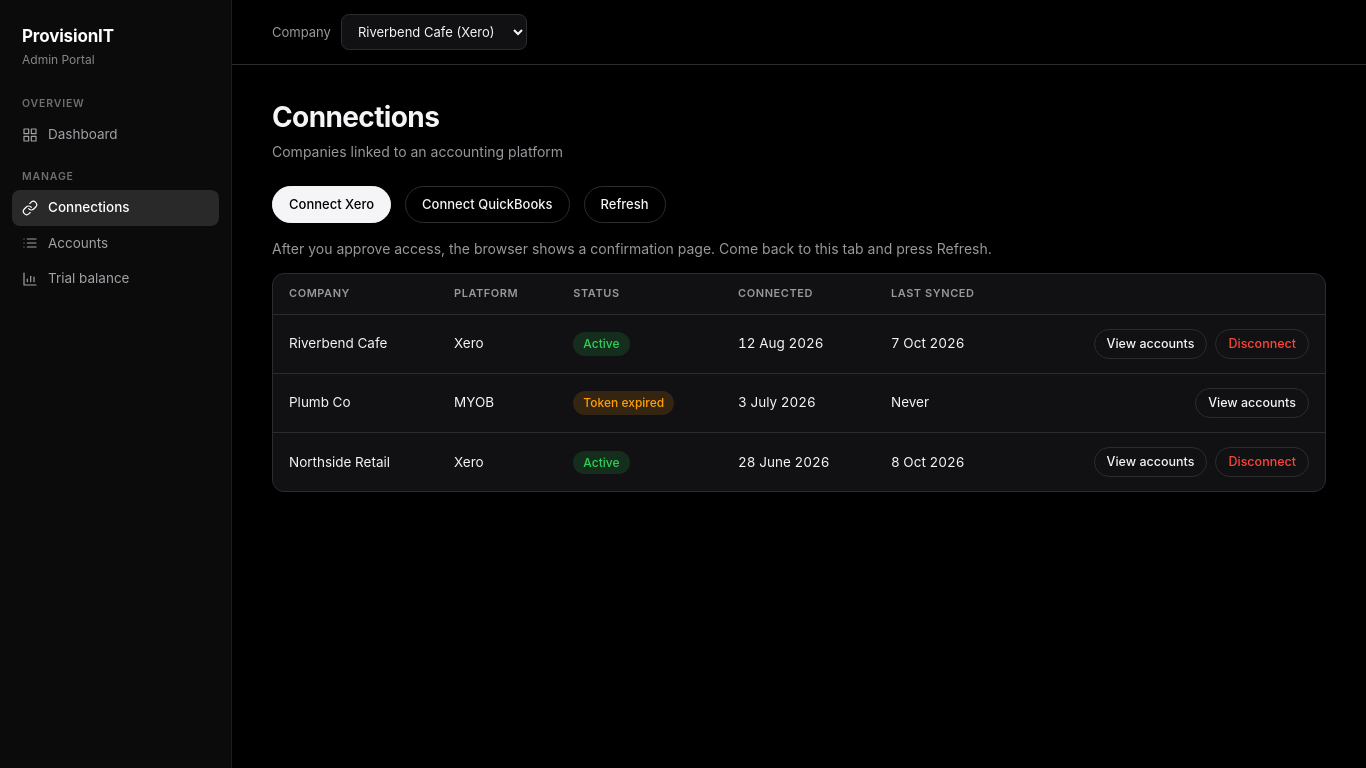
whole portal on sample data › lists companies, opens one, and moves through the pages
This screenshot has width=1366, height=768.
Expected: the text "Token expired" is shown, [573,392,674,415]
Click the button "View accounts" in the row of "Plumb Co": point(1252, 403) [1195,388,1309,418]
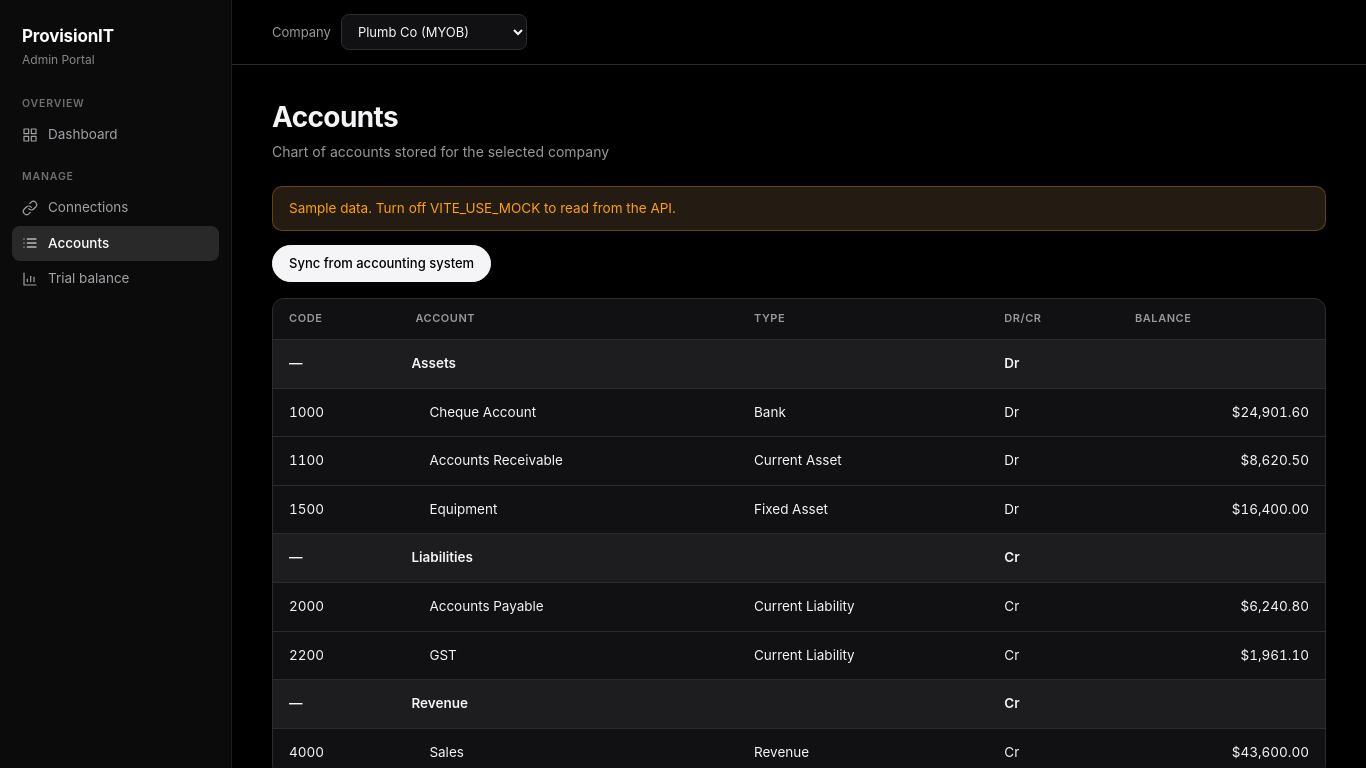
Now the heading "Accounts" is shown, box [272,100,398,134]
Now the text "Cheque Account" is shown, box [399,389,738,437]
Now the dropdown named "Active company" shows "Plumb Co (MYOB)", box [341,14,527,50]
Click the link "Trial balance": point(76, 279) [22,270,130,287]
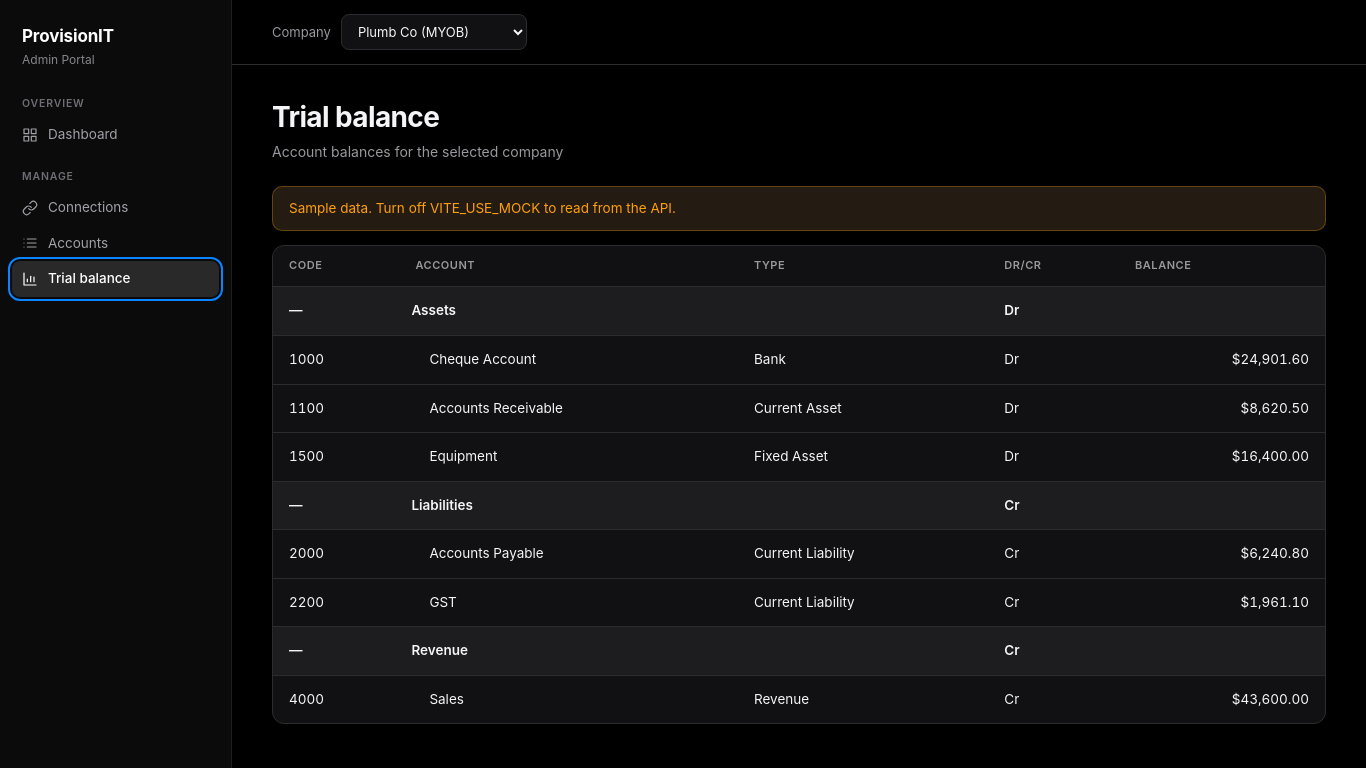
Now the text "Accounts Receivable" is shown, box [399,384,738,433]
Now the heading "Trial balance" is shown, box [272,100,439,134]
